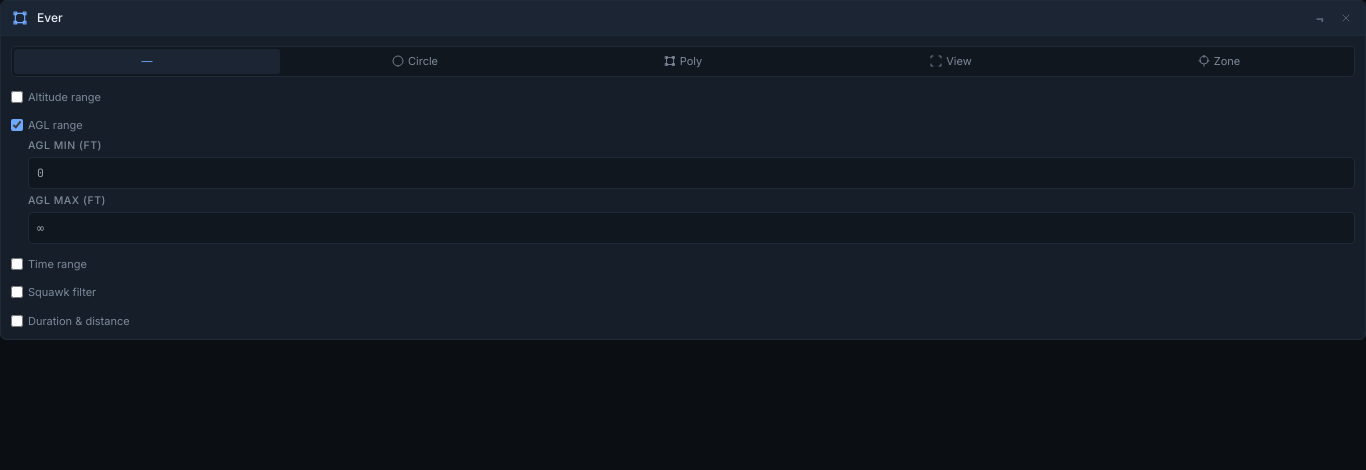
Test: QueryBuilderBody › IntersectsCard › shows altitude inputs after checking the altitude checkbox
Click the checkbox labelled "Altitude range". click: (17, 97)
box: [11,91,23,103]
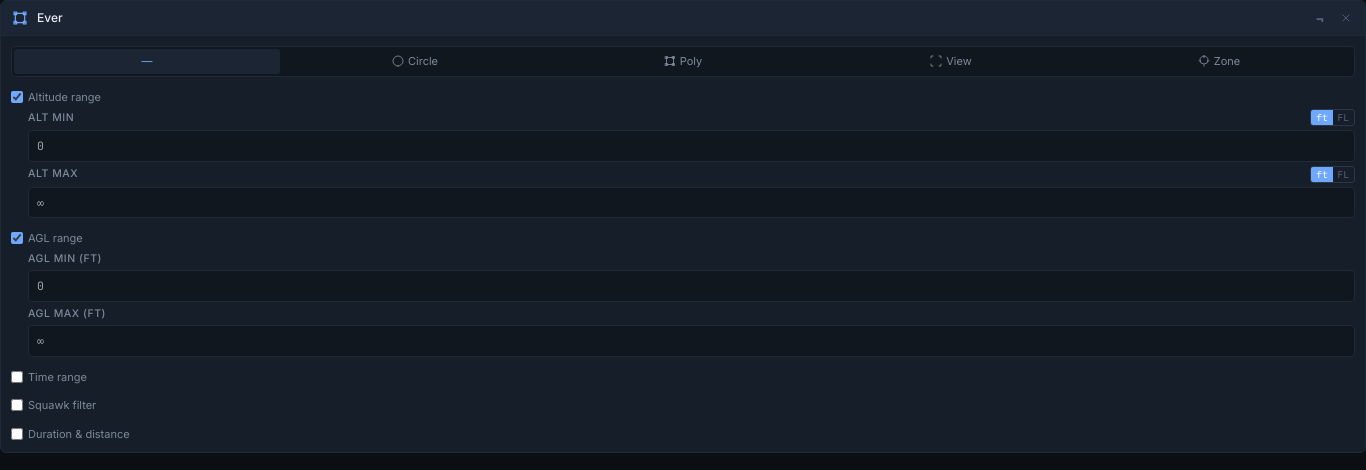
Now the text "Alt min" is shown, box [28,110,74,126]
Now the text "Alt max" is shown, box [28,166,78,182]
